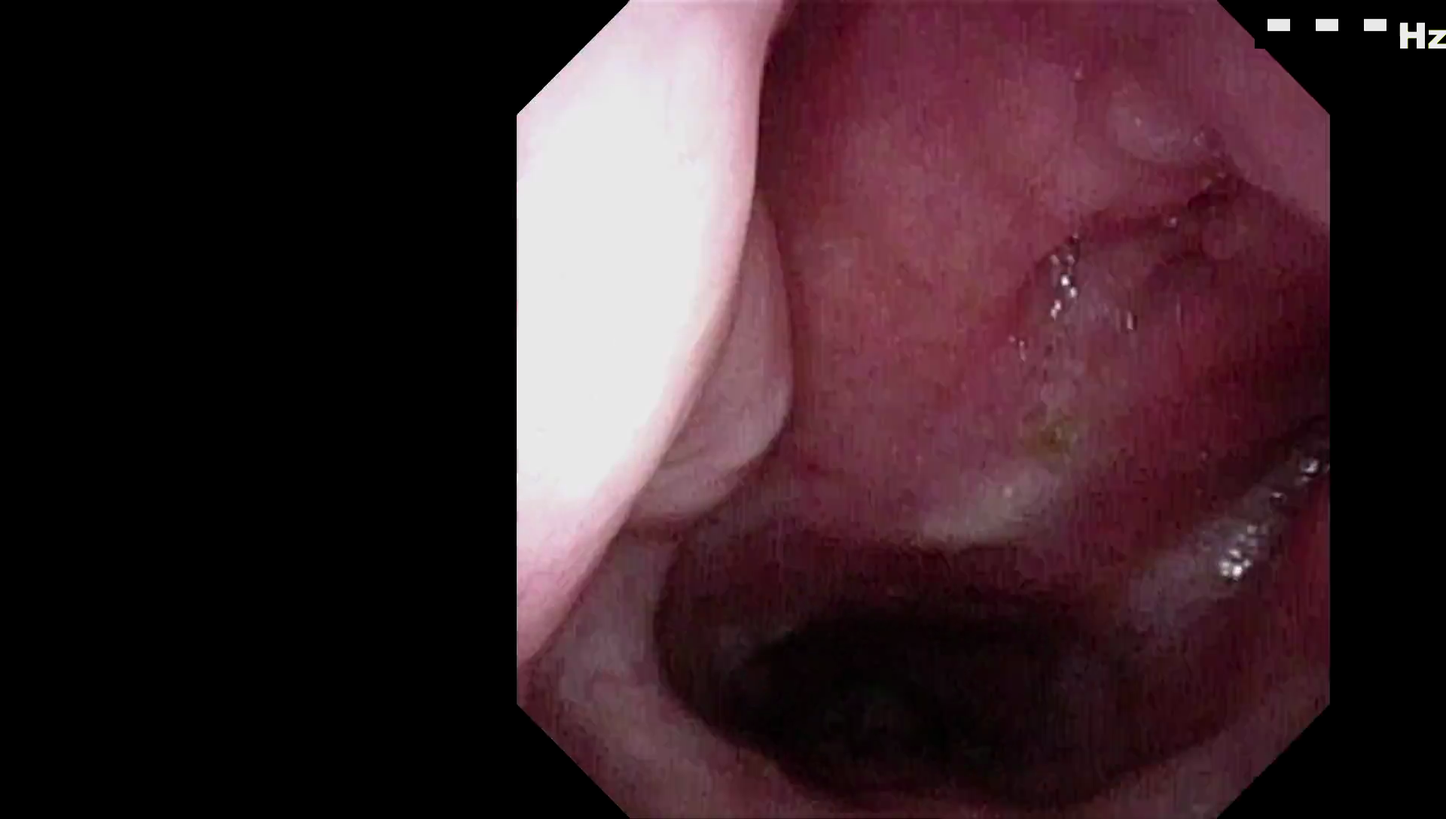close_wall: (521, 119, 804, 666)
next: (684, 520, 1123, 819)
